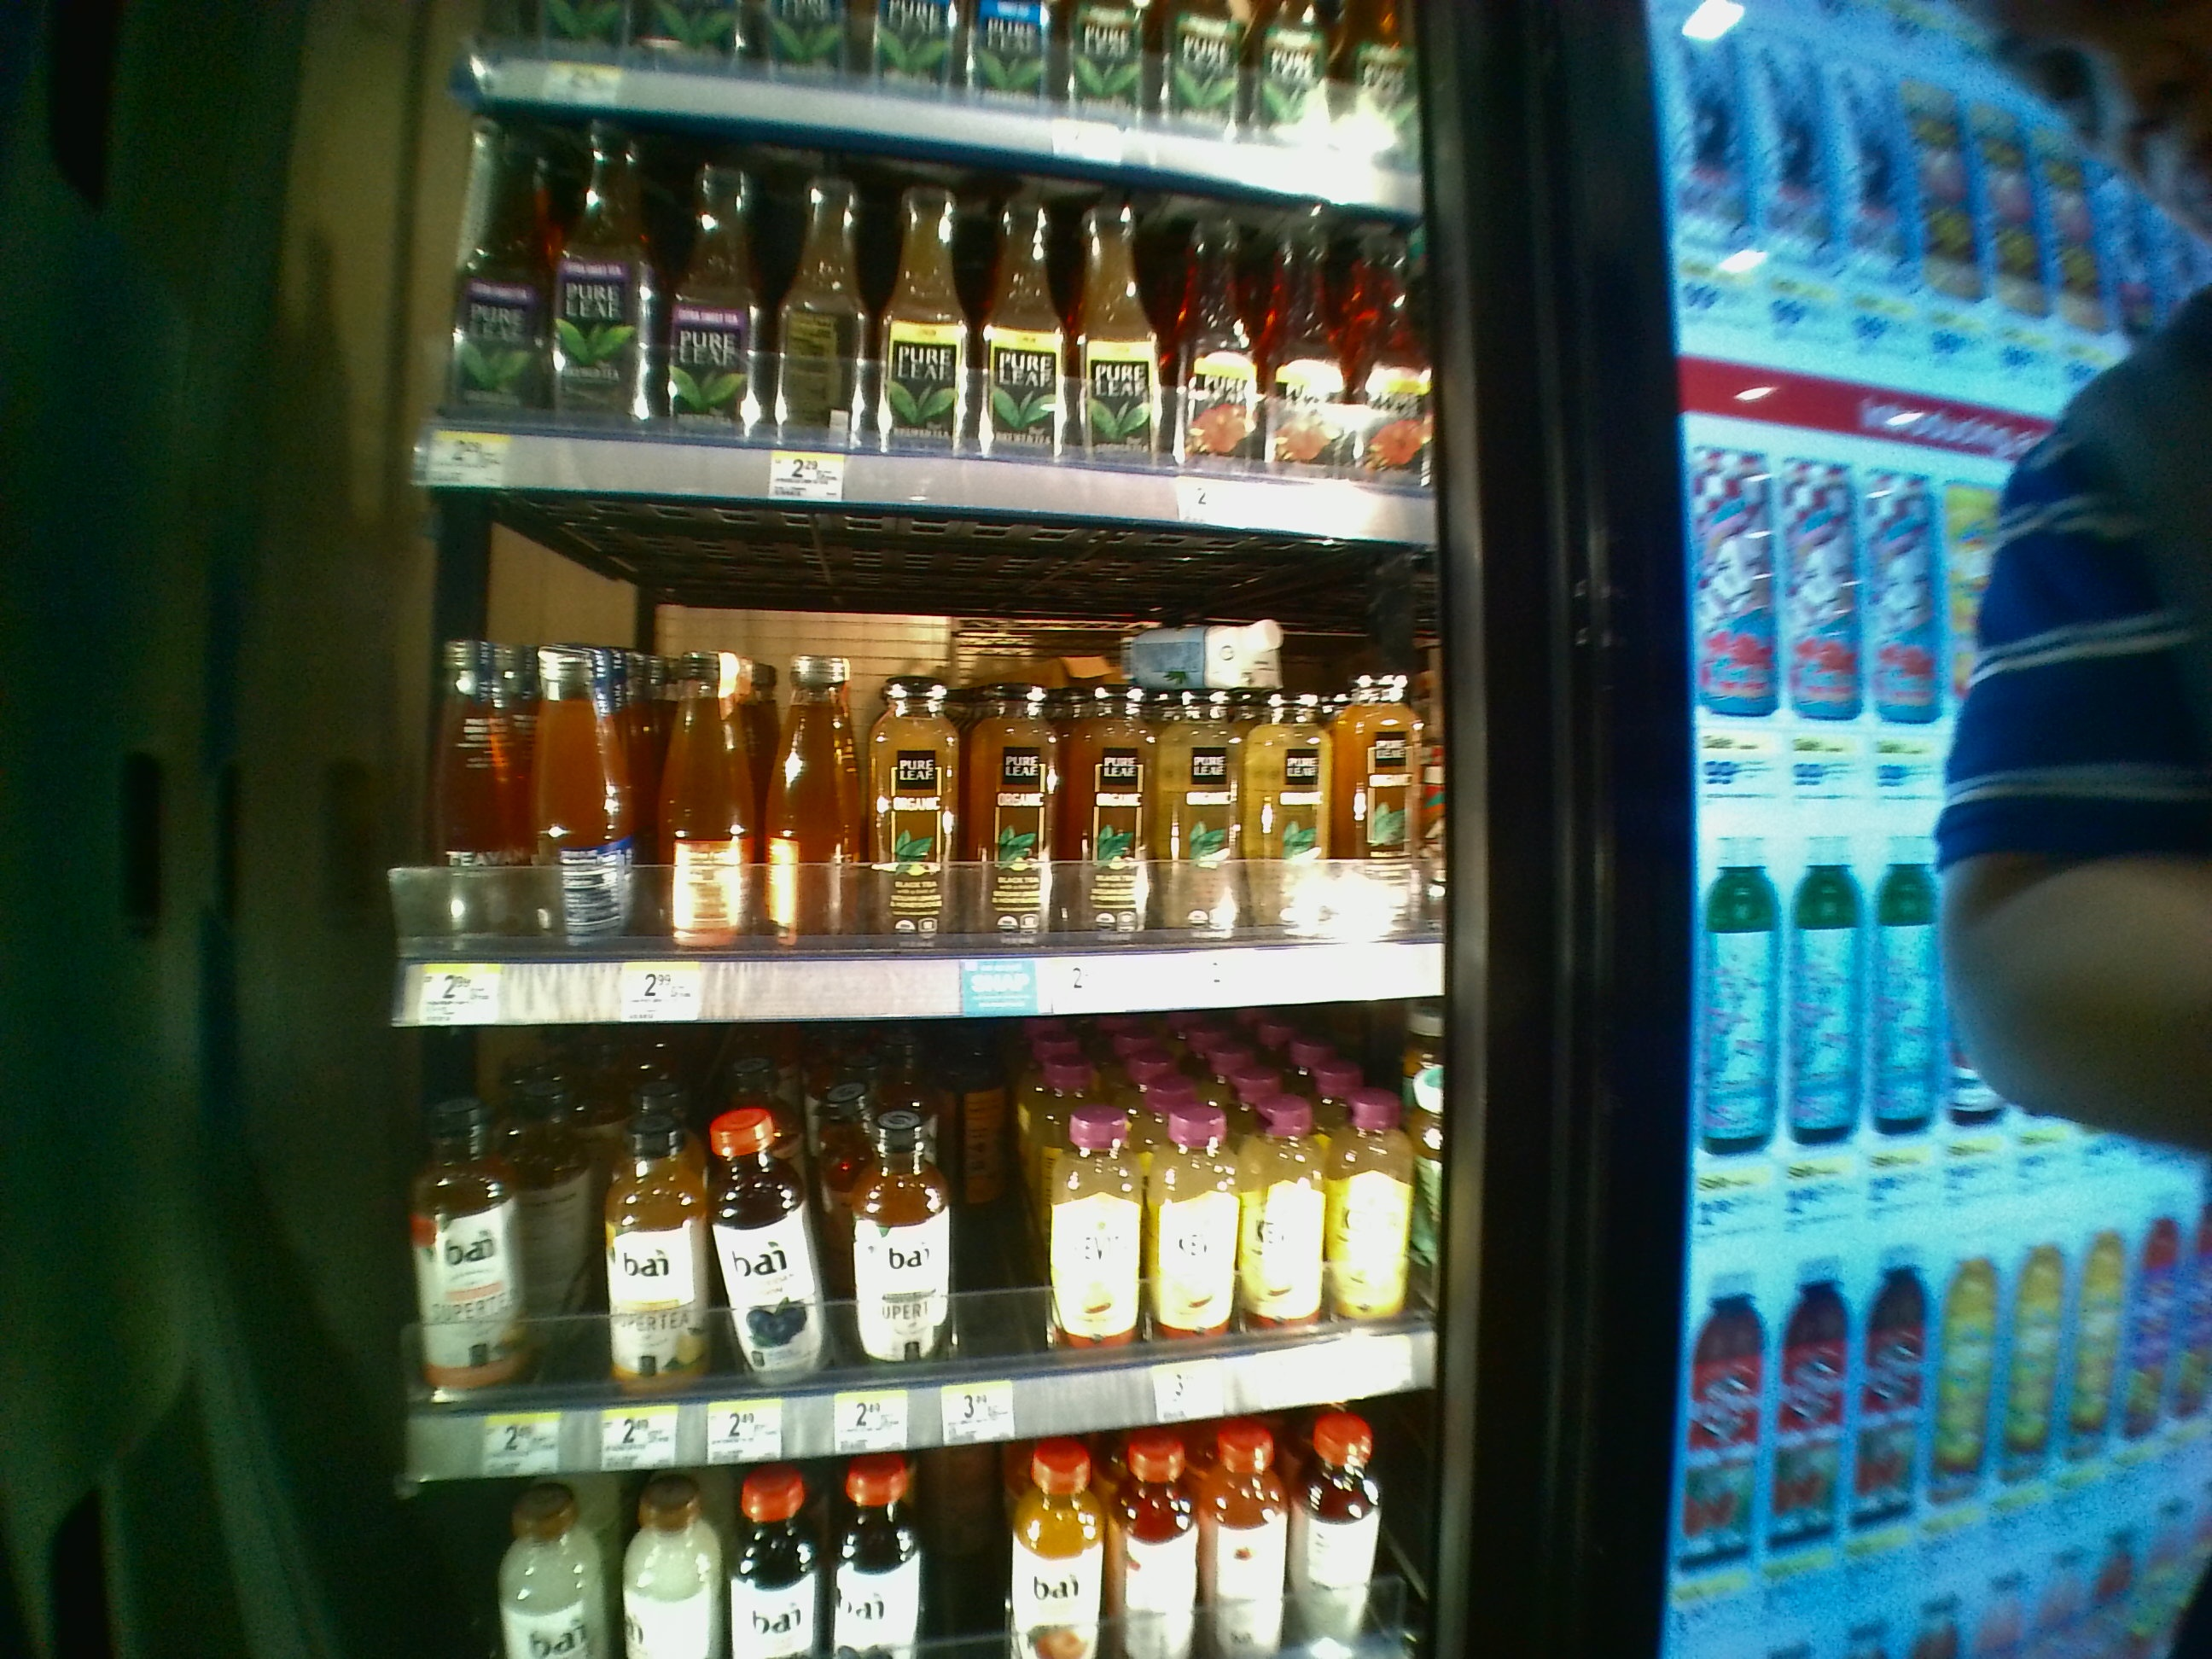shelf: (392, 505, 1463, 1023), (383, 1035, 1465, 1467)
